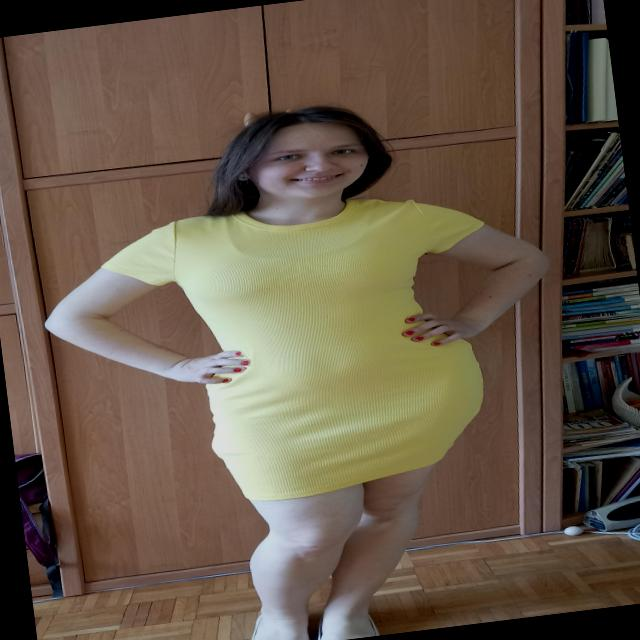dress: (95, 182, 512, 518)
